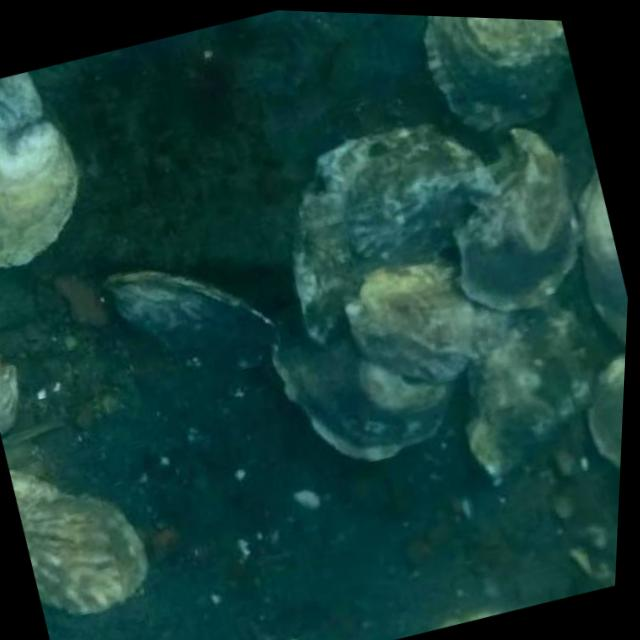Oyster-Closed: (105, 270, 279, 369)
Oyster-Indeterminate: (293, 126, 498, 339), (271, 307, 456, 464), (468, 262, 603, 473), (9, 469, 147, 612), (426, 16, 571, 130), (348, 263, 477, 379), (0, 117, 77, 262), (580, 168, 628, 346), (589, 352, 625, 469), (0, 72, 43, 132), (0, 353, 19, 435)
Oyster-Open: (452, 127, 580, 310)
